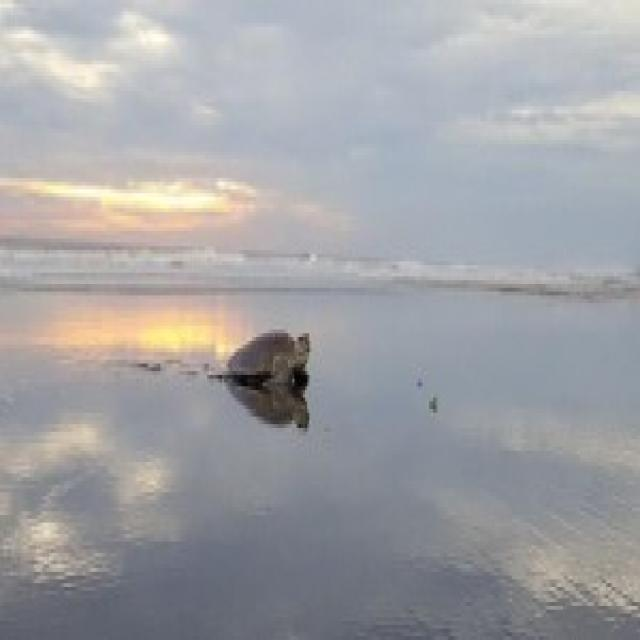Sea turtle: (196, 315, 323, 439)
